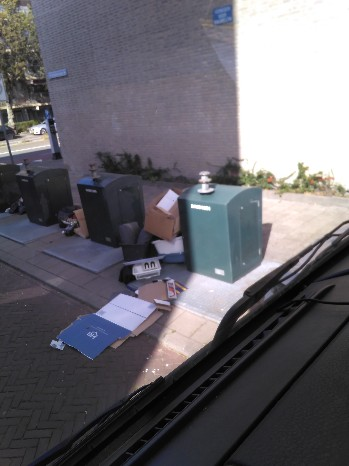Container: (187, 184, 271, 293), (90, 172, 136, 242), (21, 161, 61, 227)
Papier: (100, 288, 166, 362), (141, 186, 185, 226)
Rest: (54, 201, 86, 233), (117, 253, 156, 274)
